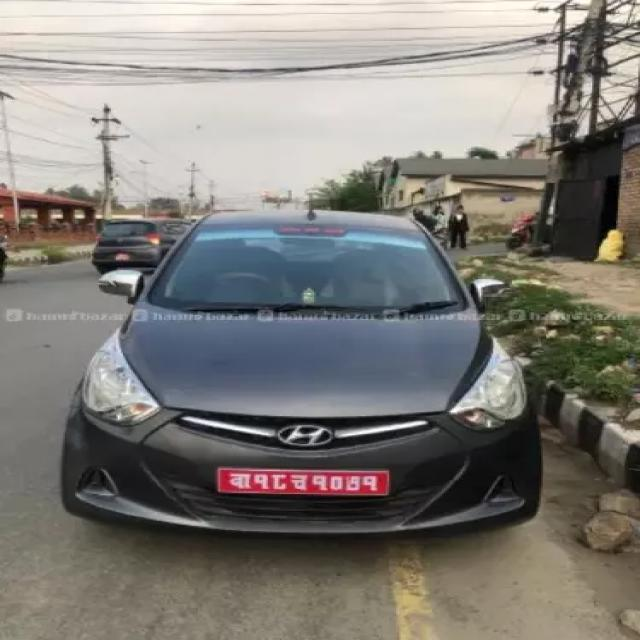License-plate: (215, 464, 398, 501)
